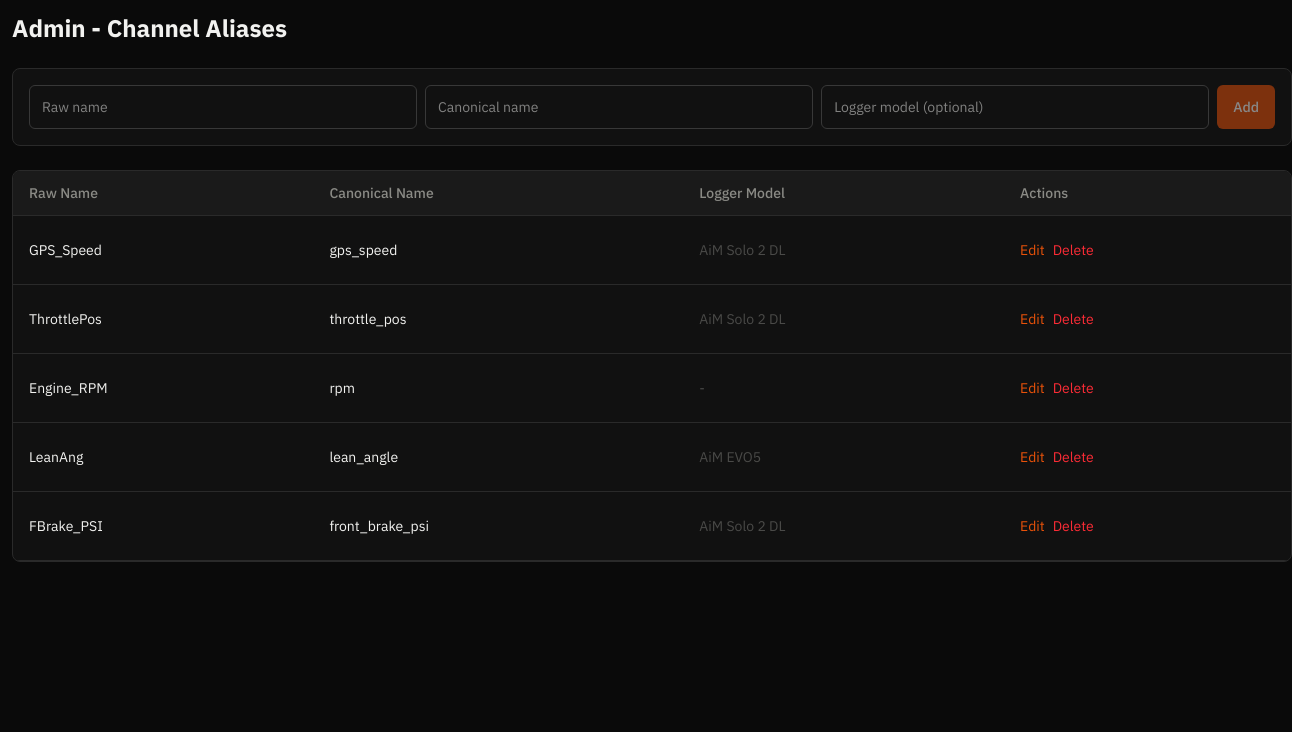
Admin screen › clicking edit shows inline edit inputs
Click the button with test id "edit-alias-1". click: (1032, 250)
box: 1020,228 -> 1045,272
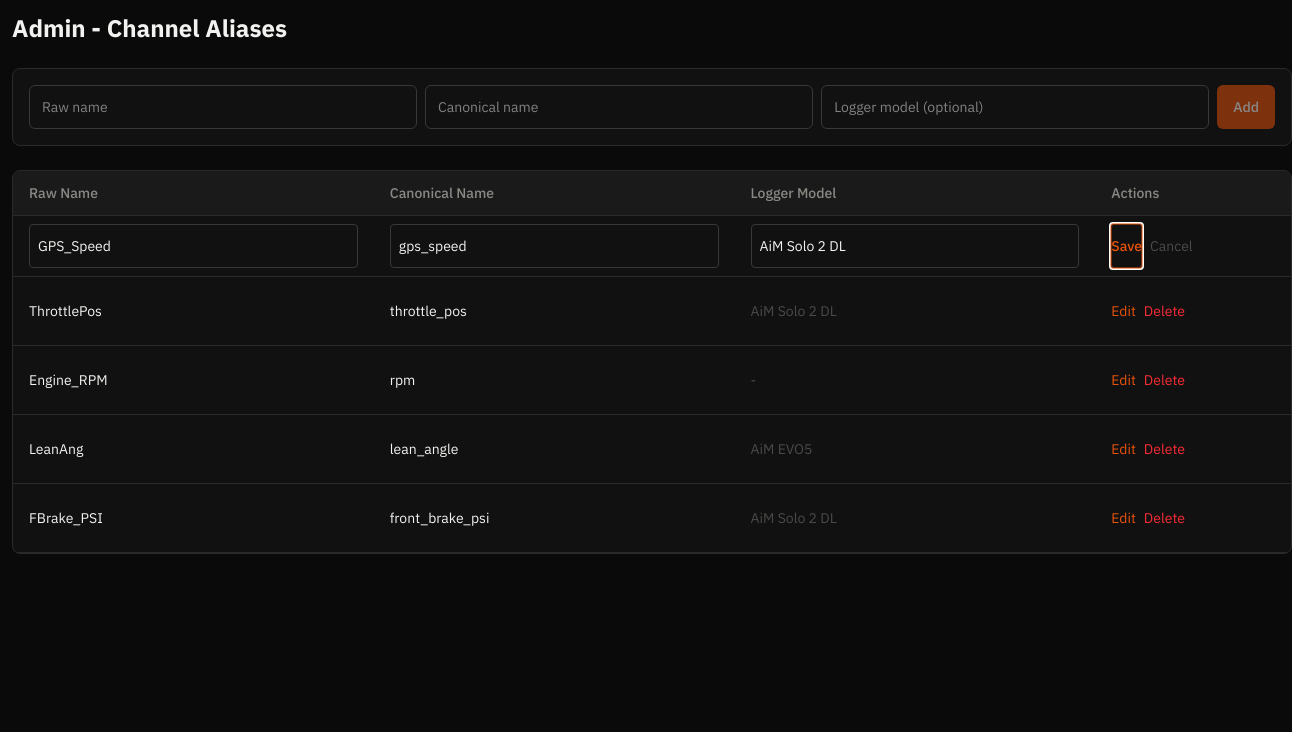
Result: the field with test id "edit-raw-name" is shown at 29,224 -> 358,268
Result: the field with test id "edit-canonical-name" is shown at 390,224 -> 719,268
Result: the button with test id "save-edit-btn" is shown at 1111,224 -> 1142,268
